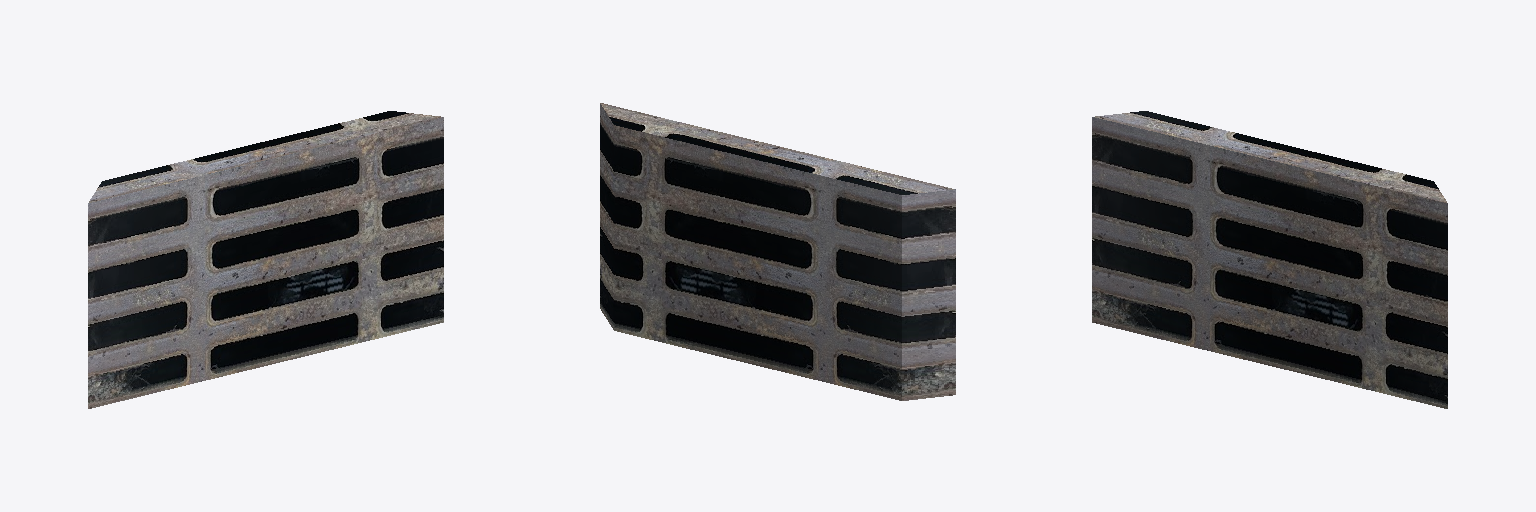
3 renders of one model, left to right at view 1: azimuth 30°, elevation 25°; view 2: azimuth 150°, elevation 25°; view 3: azimuth 330°, elevation 25°, orthographic.
Visible parts, largest first — view 1: Cube.017; view 2: Cube.017; view 3: Cube.017.
Boxes of the visible parts, <box> form: Cube.017: <box>88,111,443,408</box>; Cube.017: <box>600,103,955,400</box>; Cube.017: <box>1092,111,1447,408</box>.
Size of the model in its own units: 3.98 by 2.2 by 0.3777.
Materials: 1 (1 with a texture image).